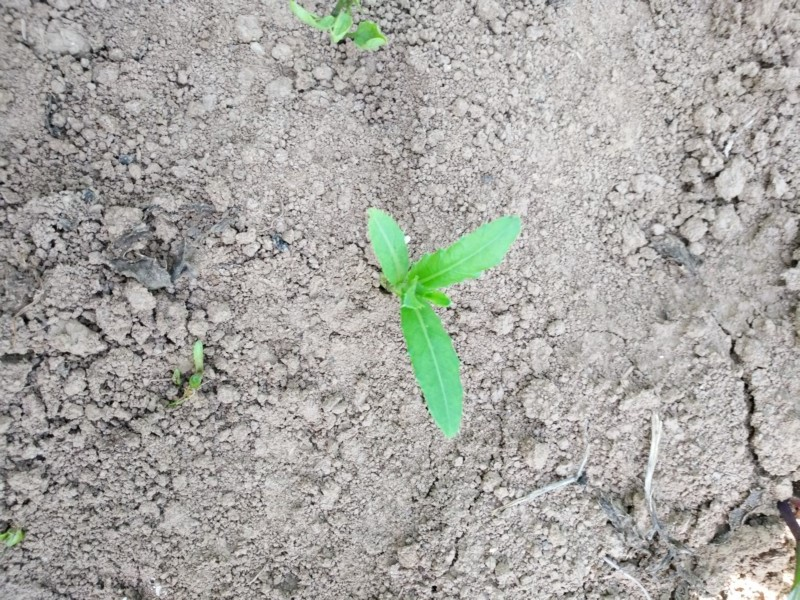cirsium_setosum: (362, 206, 524, 441)
